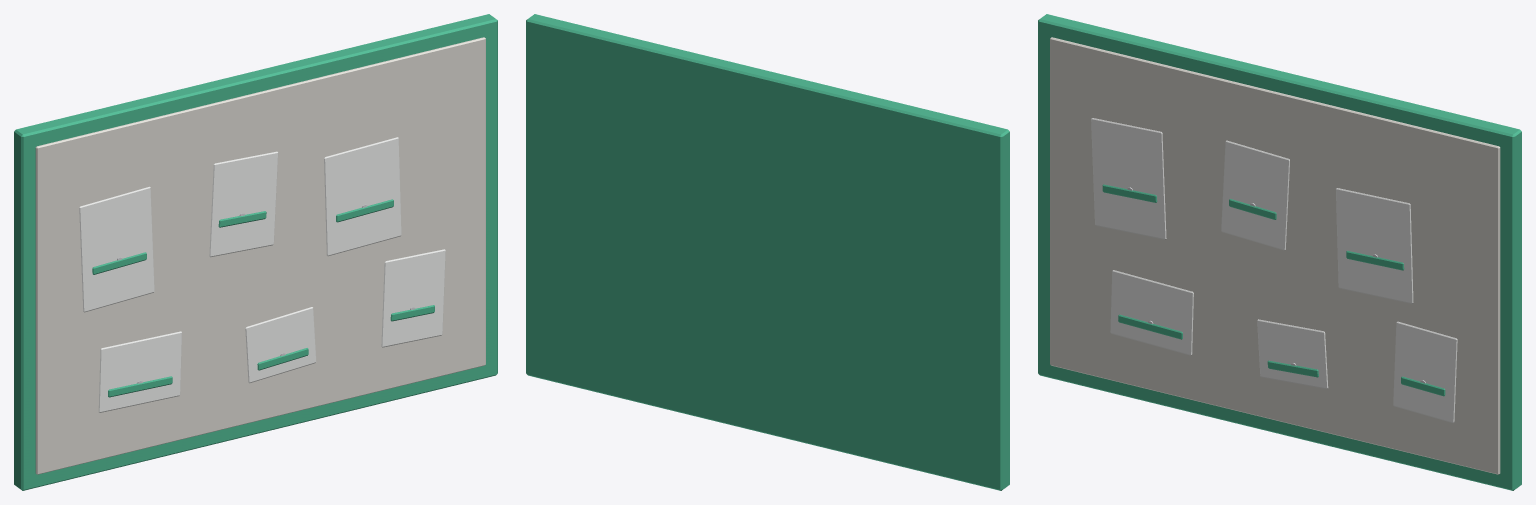
The model's file is university-lecture-hall-and-campus-noticeboard-green-123057e9__34768.glb.
3 views of the same model, side by side, from view 1: azimuth 30°, elevation 25°; view 2: azimuth 150°, elevation 25°; view 3: azimuth 330°, elevation 25° (orthographic).
Visible parts, largest first — view 1: noticeboard-green; view 2: noticeboard-green; view 3: noticeboard-green.
Boxes of the visible parts, x1,y1,x2,y2 form: noticeboard-green: [14, 14, 497, 490]; noticeboard-green: [526, 14, 1009, 490]; noticeboard-green: [1038, 14, 1521, 490].
Size of the model in its own units: 1.4 by 1 by 0.06.
